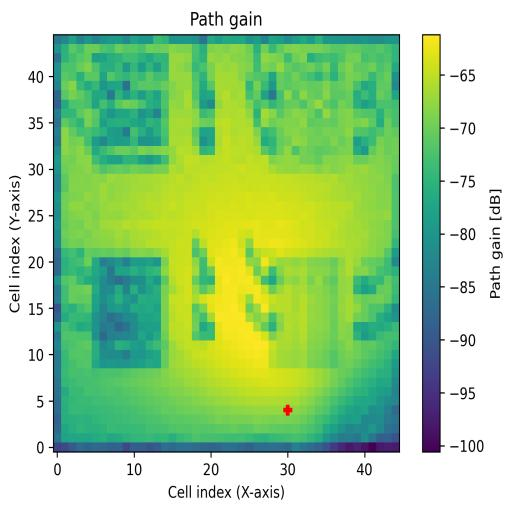Concrete: (270, 56, 354, 163)
Glass: (92, 52, 169, 166)
Metal: (269, 259, 338, 371)
Wood: (93, 258, 168, 370)
